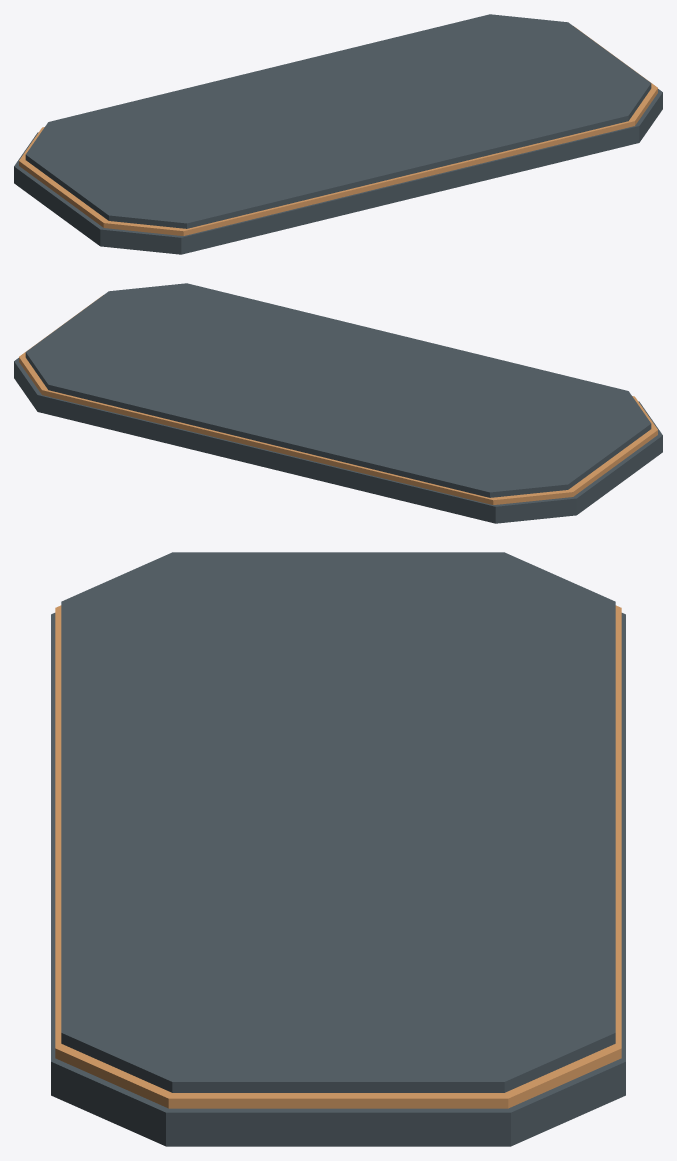
File: showroom-plinth.glb
3 renders of one model, top to bottom at view 1: azimuth 30°, elevation 25°; view 2: azimuth 150°, elevation 25°; view 3: azimuth 270°, elevation 25°, orthographic. The views are drawn at different scales.
Bounding box in the file's own units: 2.26 × 0.105 × 1.
